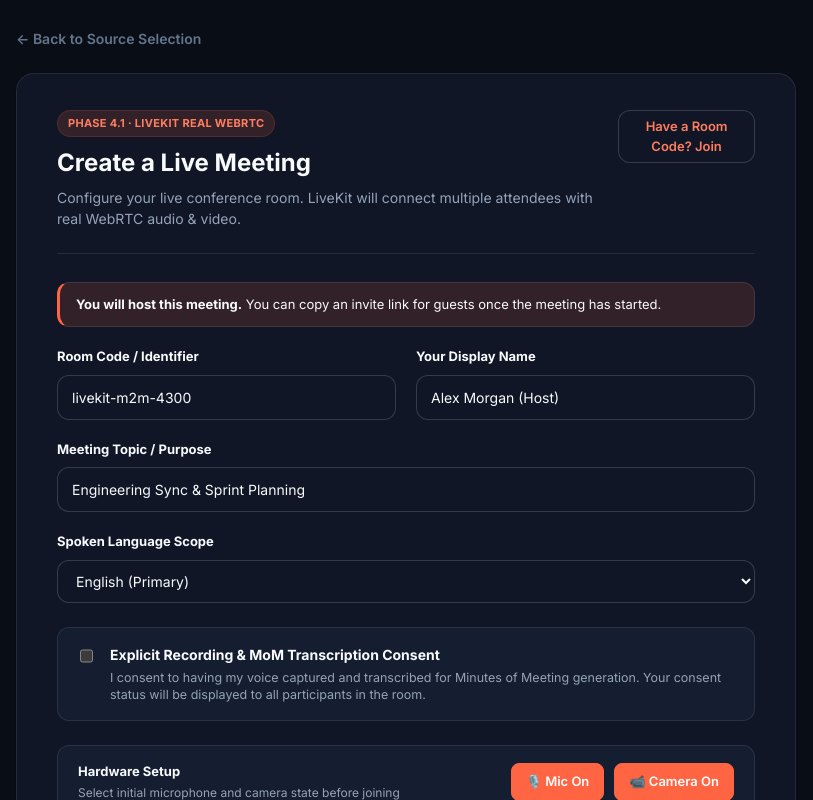
Scenario: Phase 4.1: Real LiveKit Meeting UI & WebRTC Lifecycle › renders Create Meeting form with room code, topic, host, language, consent toggle and device controls
Expected: the field labelled "Meeting Topic / Purpose" holds "Engineering Sync & Sprint Planning", [57,467,755,512]
Expected: the field labelled "Your Display Name" holds "Alex Morgan (Host)", [416,374,755,420]
Note: Toggling pre-join controls
Click the button "🎙️ Mic On" at (557, 782), box [511,763,604,799]
(page scrolled)
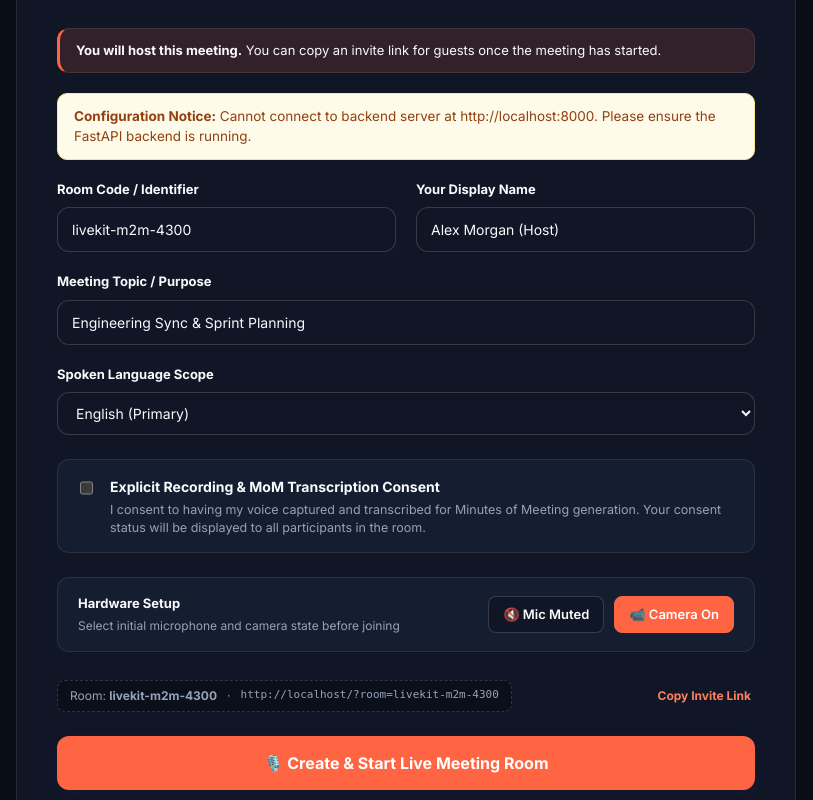
Expected: the text "Room: livekit-m2m-4300" is shown, [70,686,217,704]
Now the button "🔇 Mic Muted" is shown, box [488,596,604,633]
